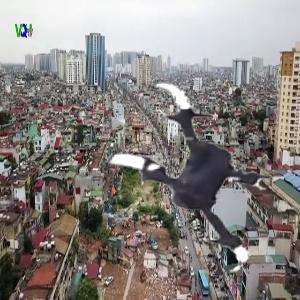drone: (80, 75, 289, 284)
